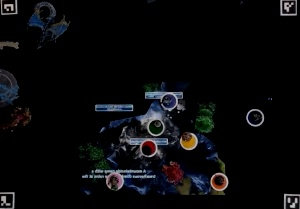green: (147, 117, 167, 136)
orange: (210, 171, 229, 191)
pink: (104, 172, 127, 192)
red: (139, 139, 157, 157)
violet: (157, 90, 180, 112), (246, 106, 265, 126)
yellow: (179, 131, 199, 150)
